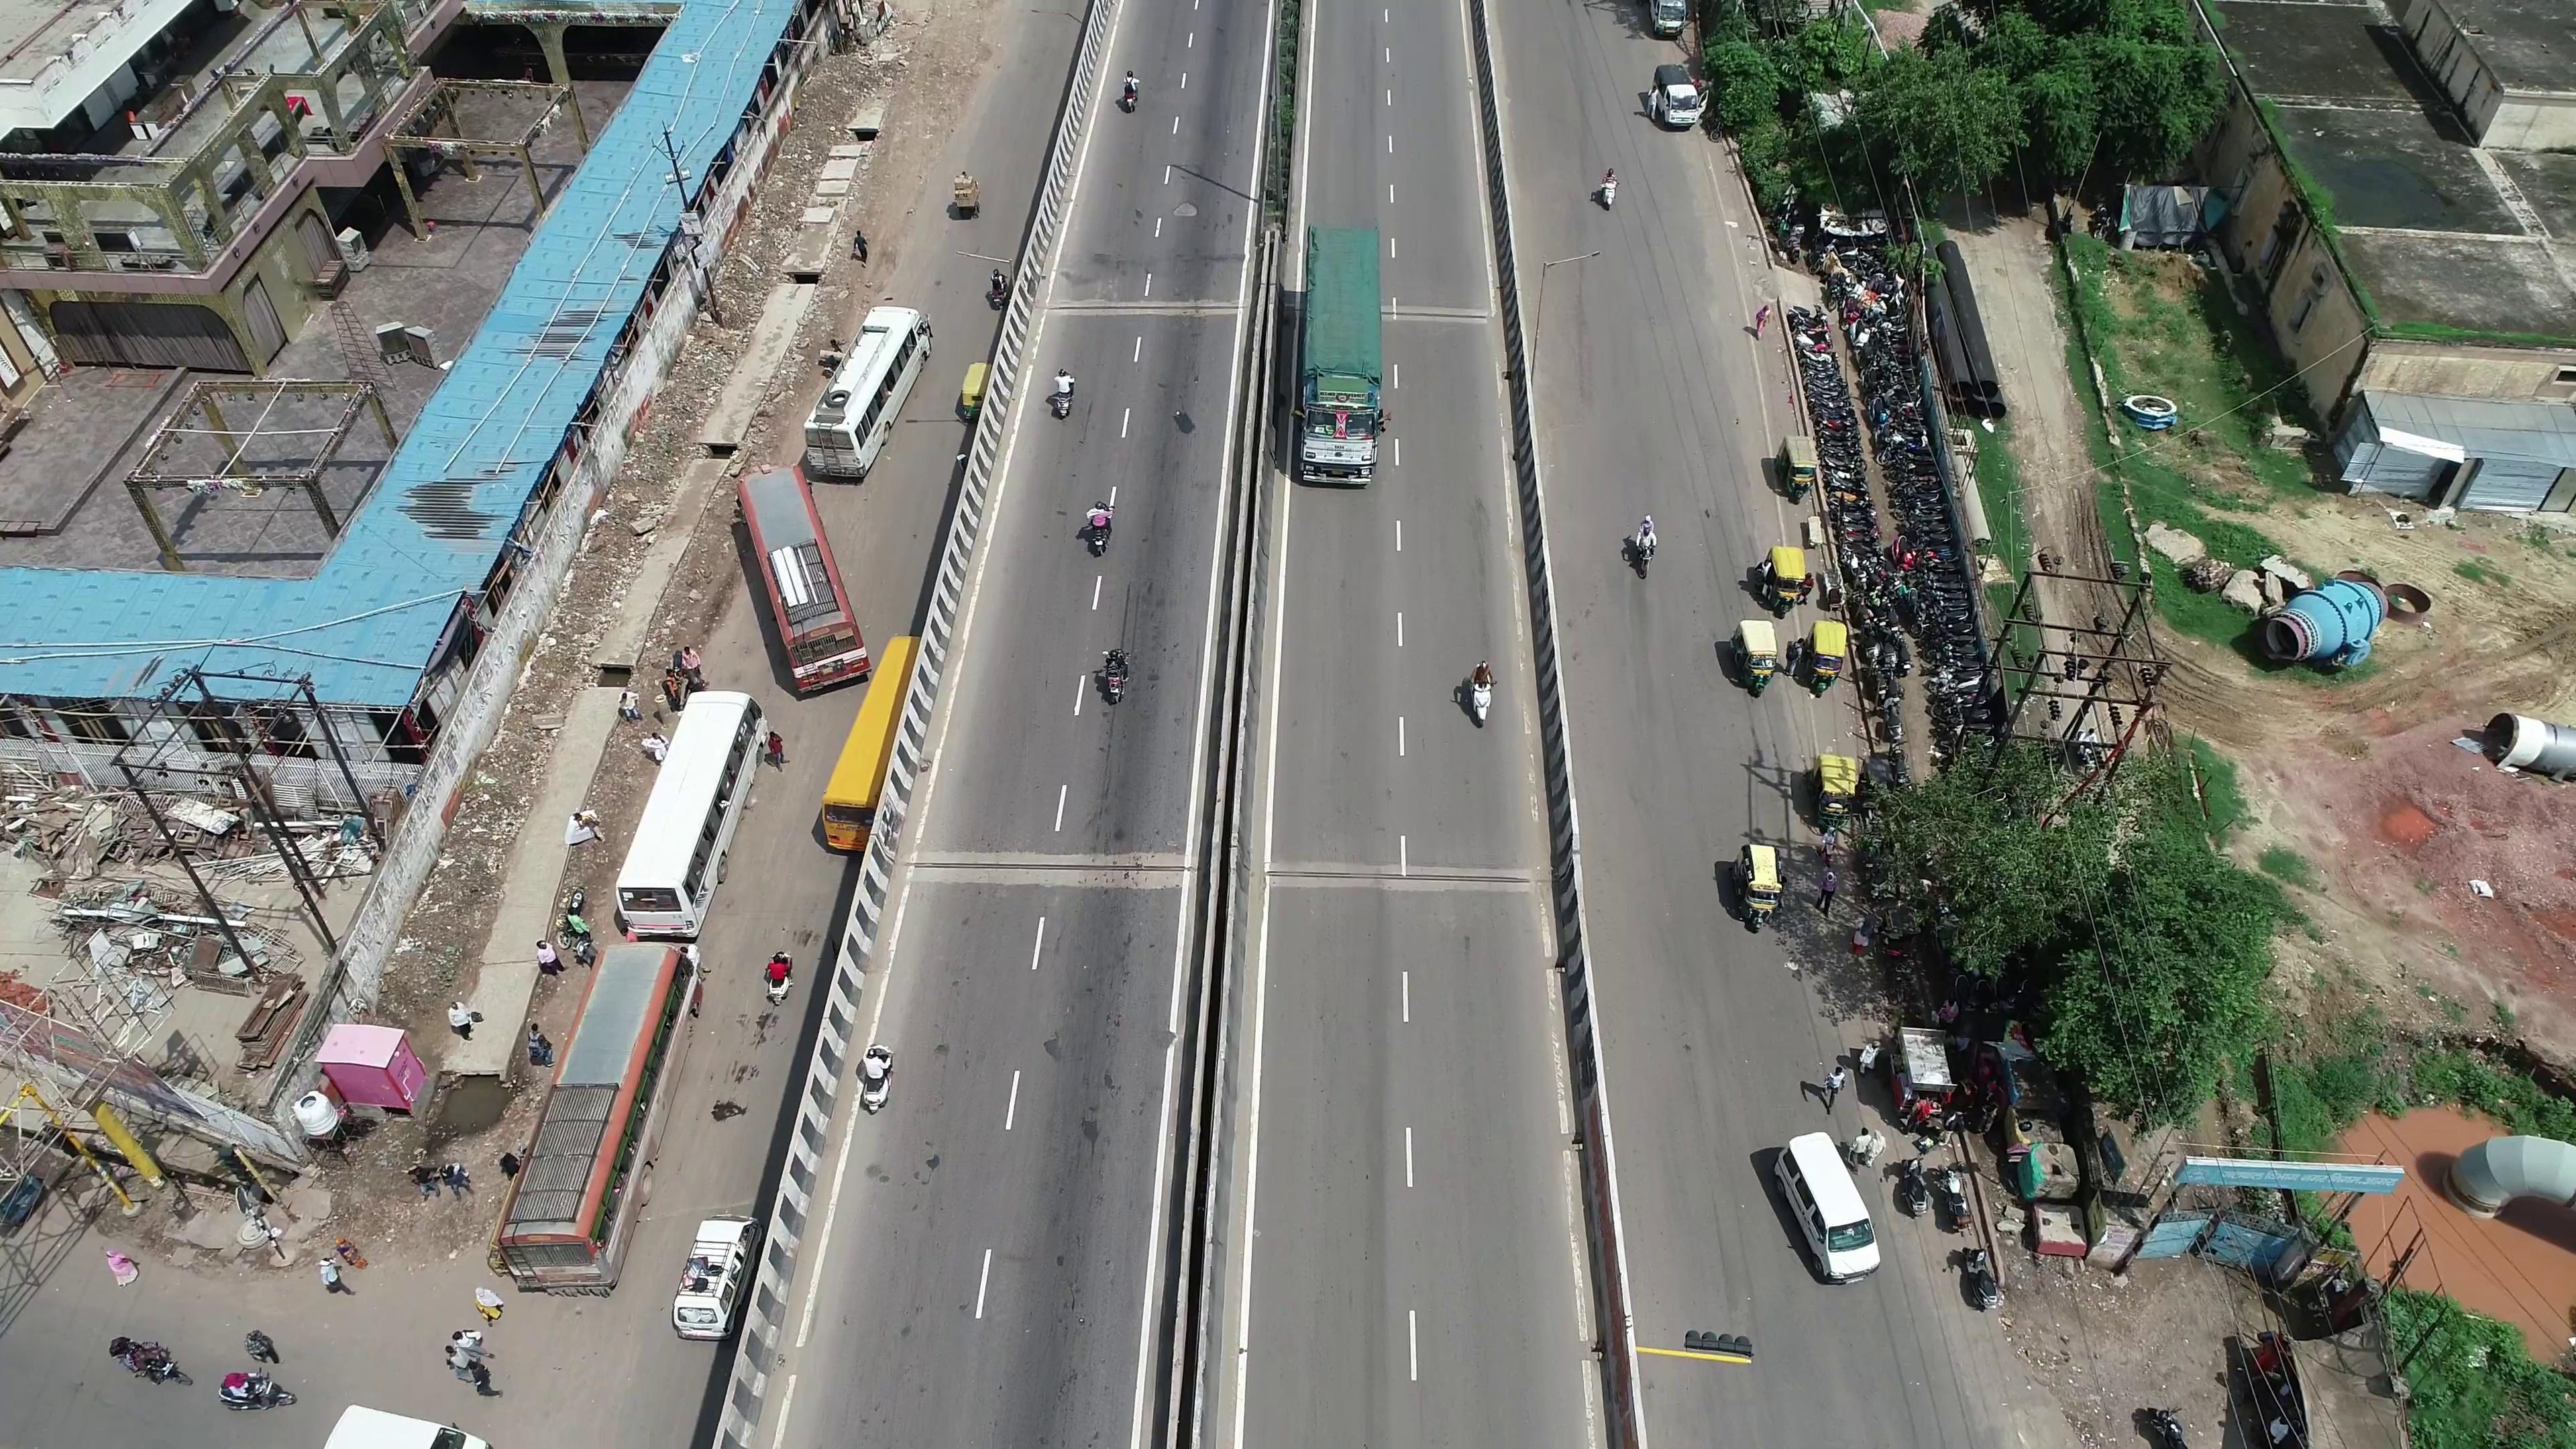Potholes: (1164, 189, 1212, 234)
